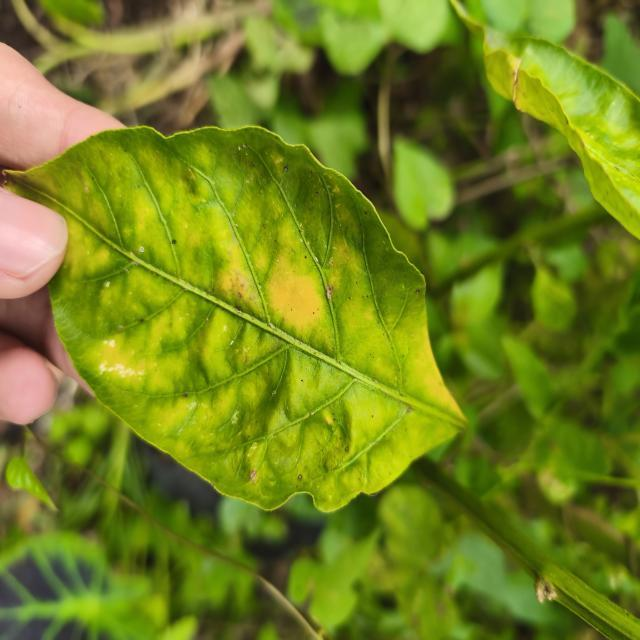Virus Kuning: (1, 122, 468, 514)
